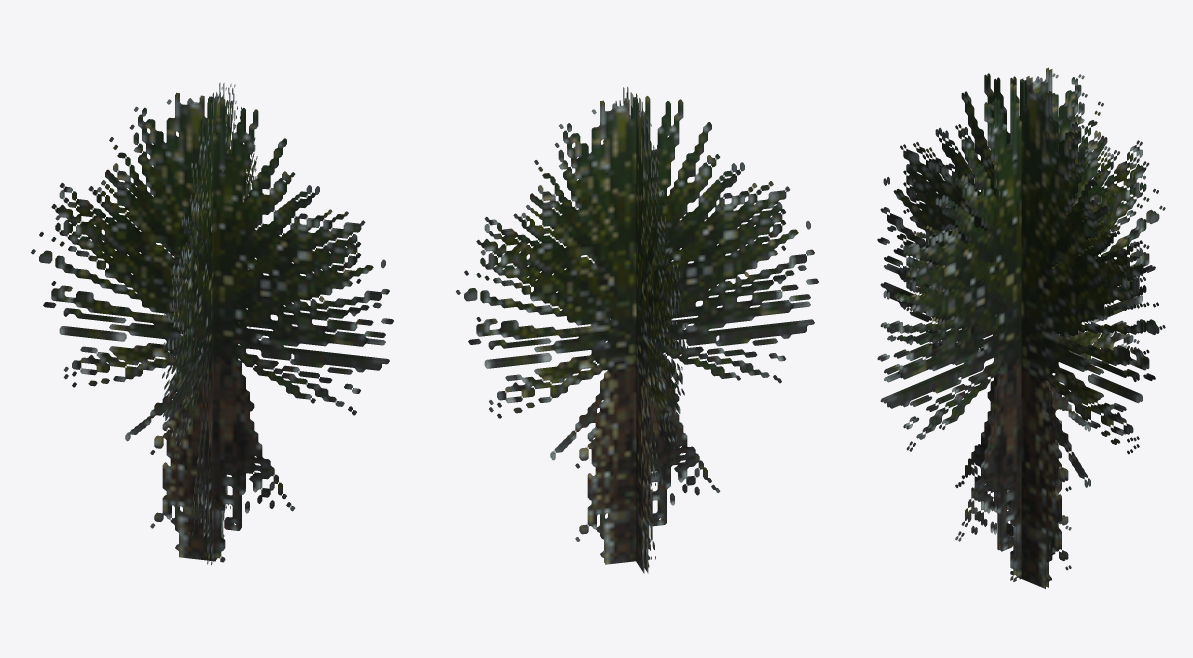
File: tree043.fbx
3 renders of one model, left to right at view 1: azimuth 30°, elevation 25°; view 2: azimuth 150°, elevation 25°; view 3: azimuth 270°, elevation 25°, orthographic. The views are drawn at different scales.
Visible parts, largest first — view 1: tree043; view 2: tree043; view 3: tree043.
Part boxes in pixels (x1,y1,x2,y2): tree043: (31, 82, 393, 565); tree043: (456, 87, 818, 573); tree043: (877, 67, 1165, 588).
Bounding box in the file's own units: 186 × 334 × 186.
Materials: 1 (1 with a texture image).
